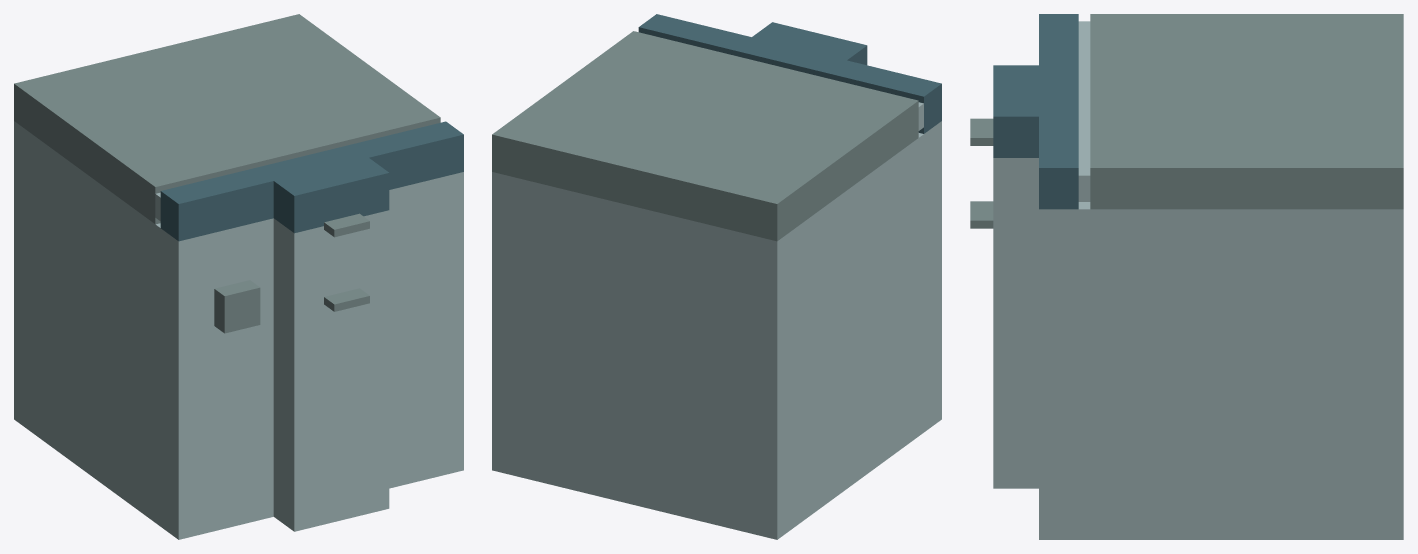
Rendered from FloorBlock-VerticalOut.002.fbx.
3 views of the same model, side by side, from view 1: azimuth 30°, elevation 25°; view 2: azimuth 150°, elevation 25°; view 3: azimuth 270°, elevation 25° (orthographic). The views are drawn at different scales.
Visible parts, largest first — view 1: FloorBlock-VerticalOut.002; view 2: FloorBlock-VerticalOut.002; view 3: FloorBlock-VerticalOut.002.
Boxes of the visible parts, x1,y1,x2,y2 form: FloorBlock-VerticalOut.002: (14,14,463,539); FloorBlock-VerticalOut.002: (492,14,941,539); FloorBlock-VerticalOut.002: (970,14,1403,539).
Size of the model in its own units: 800 by 900 by 950.
